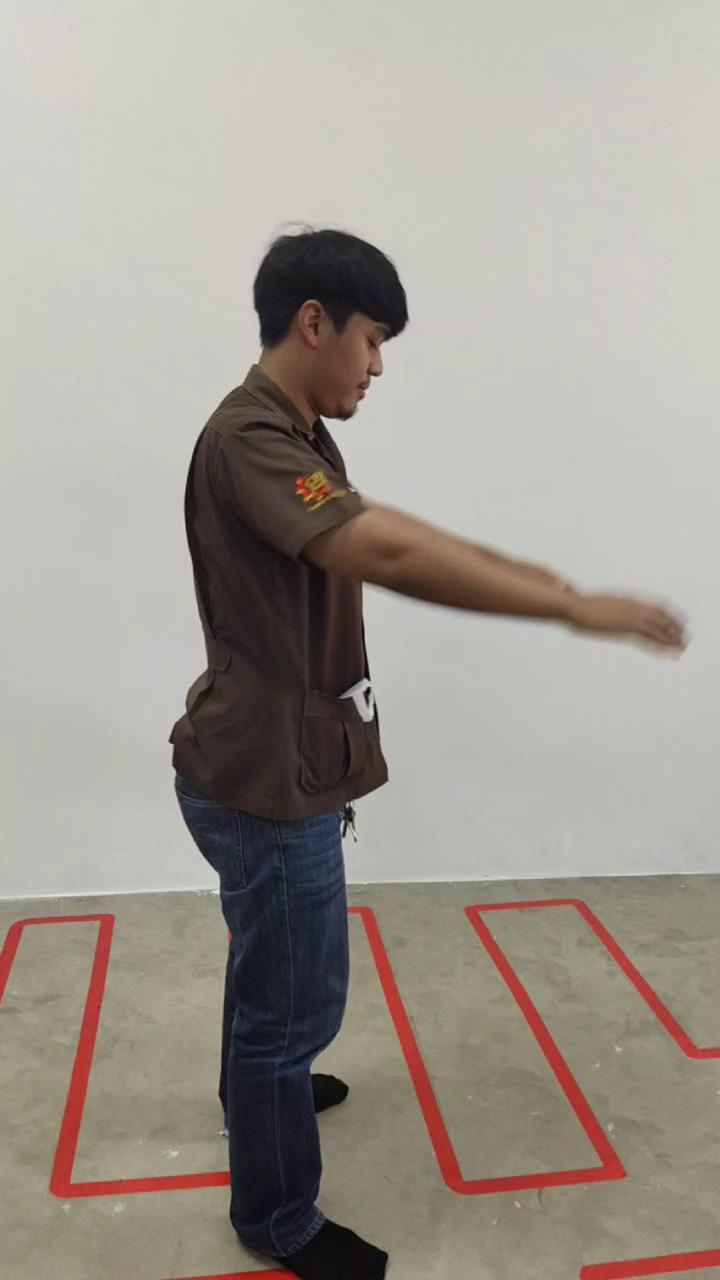squat up: (172, 230, 685, 1280)
